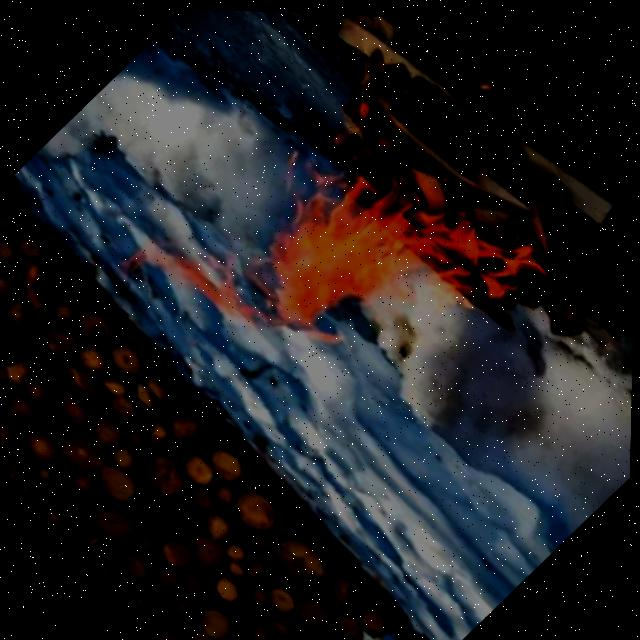Fire: (103, 26, 567, 499)
